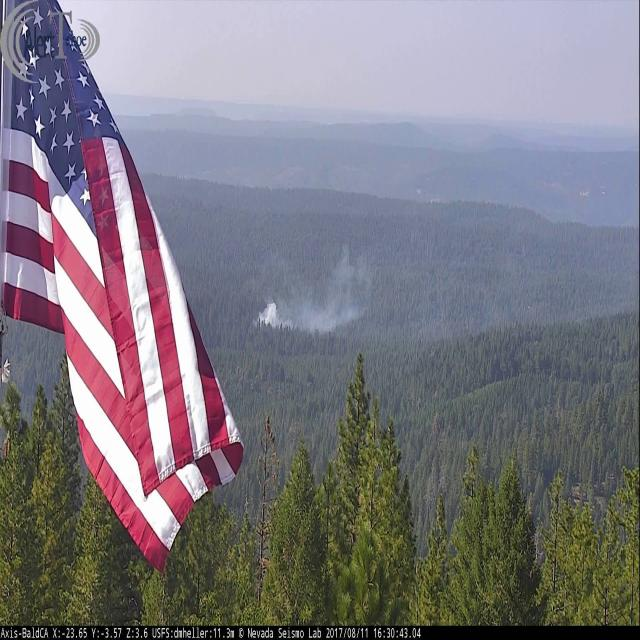smoke: (250, 204, 640, 350)
